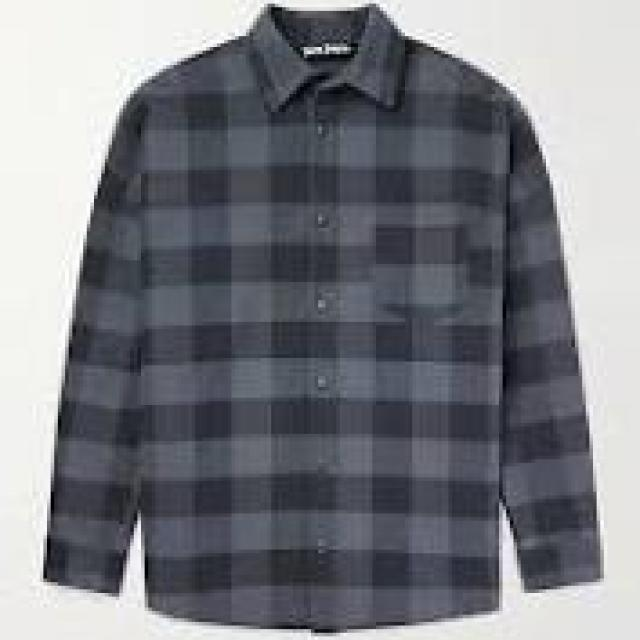plaid: (38, 26, 607, 628)
